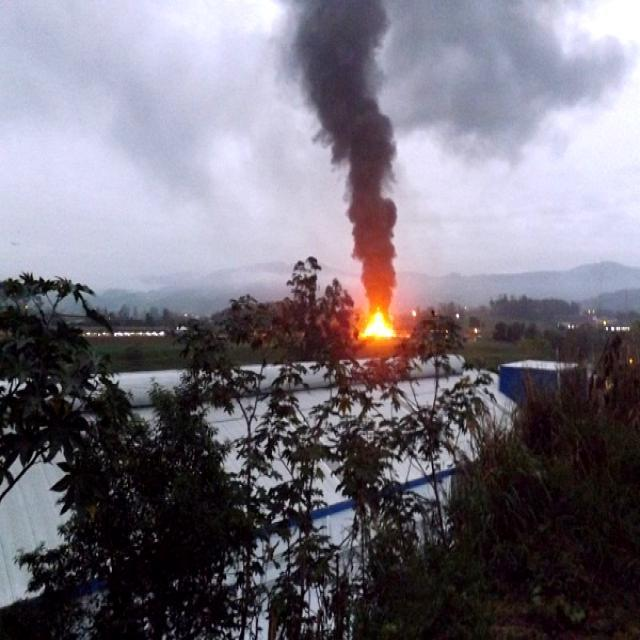Fire: (348, 297, 402, 352)
Smoke: (373, 0, 614, 165), (288, 0, 414, 292)
